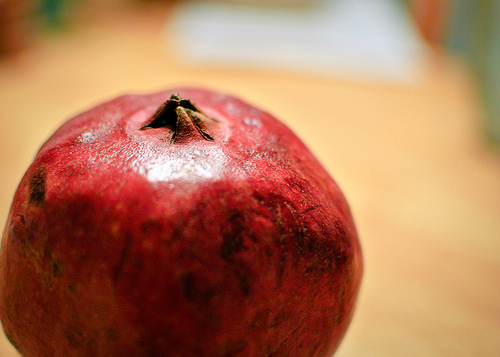pomogranate: (0, 81, 365, 356)
